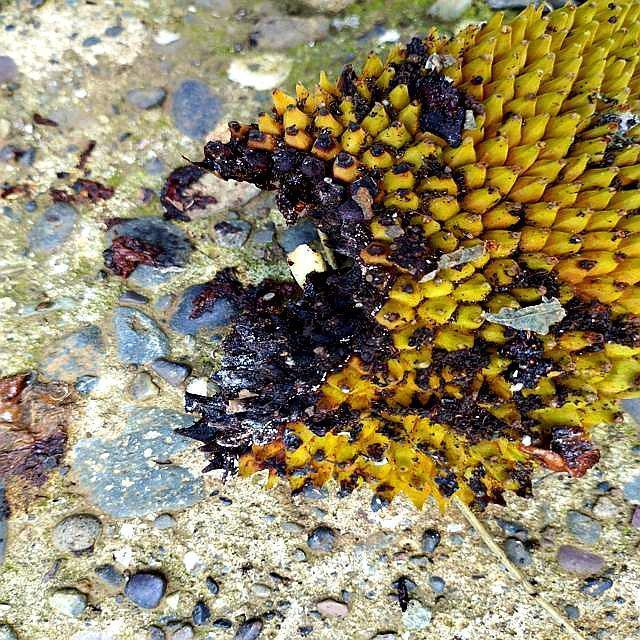Biodegradable: (179, 13, 640, 491)
